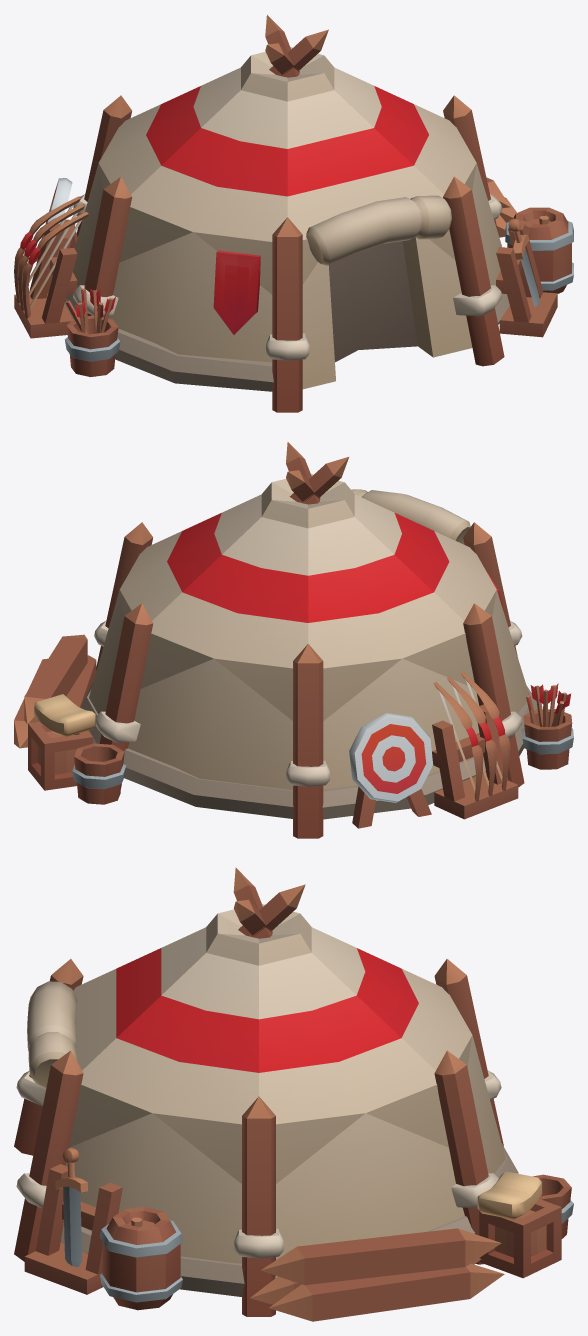
File: tent.glb
3 renders of one model, top to bottom at view 1: azimuth 30°, elevation 25°; view 2: azimuth 150°, elevation 25°; view 3: azimuth 270°, elevation 25°, orthographic. The views are drawn at different scales.
Parts seen in each view (by area): view 1: tent; view 2: tent; view 3: tent.
Part boxes in pixels (left/top/right/bottom): tent: left=14, top=15, right=573, bottom=412; tent: left=14, top=442, right=573, bottom=838; tent: left=14, top=867, right=573, bottom=1321.
Bounding box in the file's own units: 0.7582 × 0.4248 × 0.6725.
Materials: 1 (1 with a texture image).
